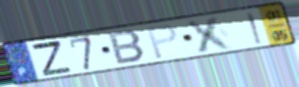7: (67, 35, 94, 71)
B: (106, 29, 148, 66)
I: (245, 10, 264, 46)
P: (145, 23, 179, 61)
X: (183, 14, 237, 55)
Z: (28, 39, 74, 77)
